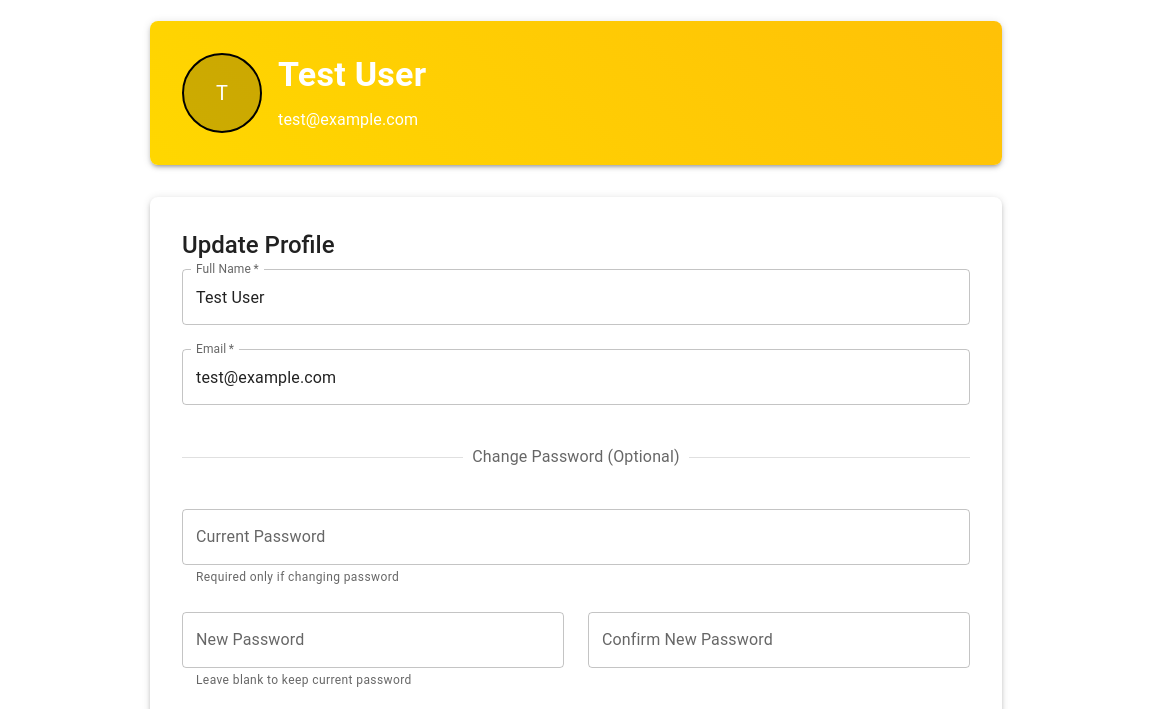
Test: Profile Component › Form Submission › should validate password length
Replace the text in the field labelled "Full Name *" with "Updated Name" at (576, 297), box [182,269,970,325]
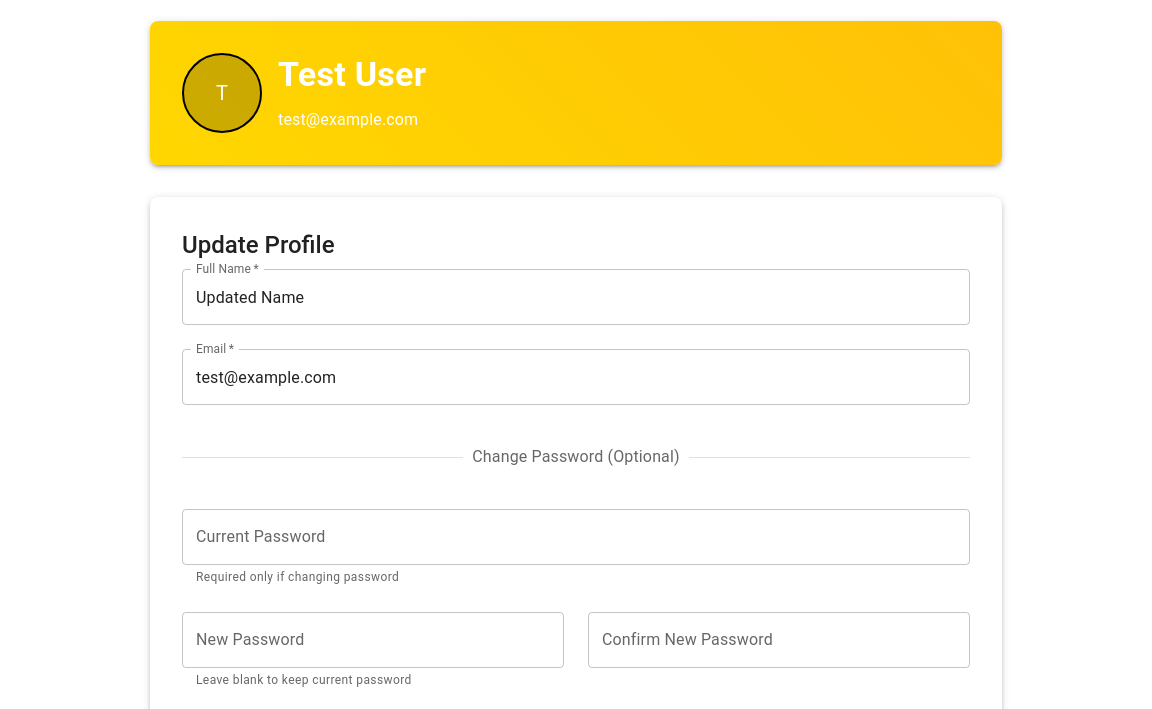
Replace the text in the field labelled "Email *" with "updated@example.com" at (576, 377), box [182,349,970,405]
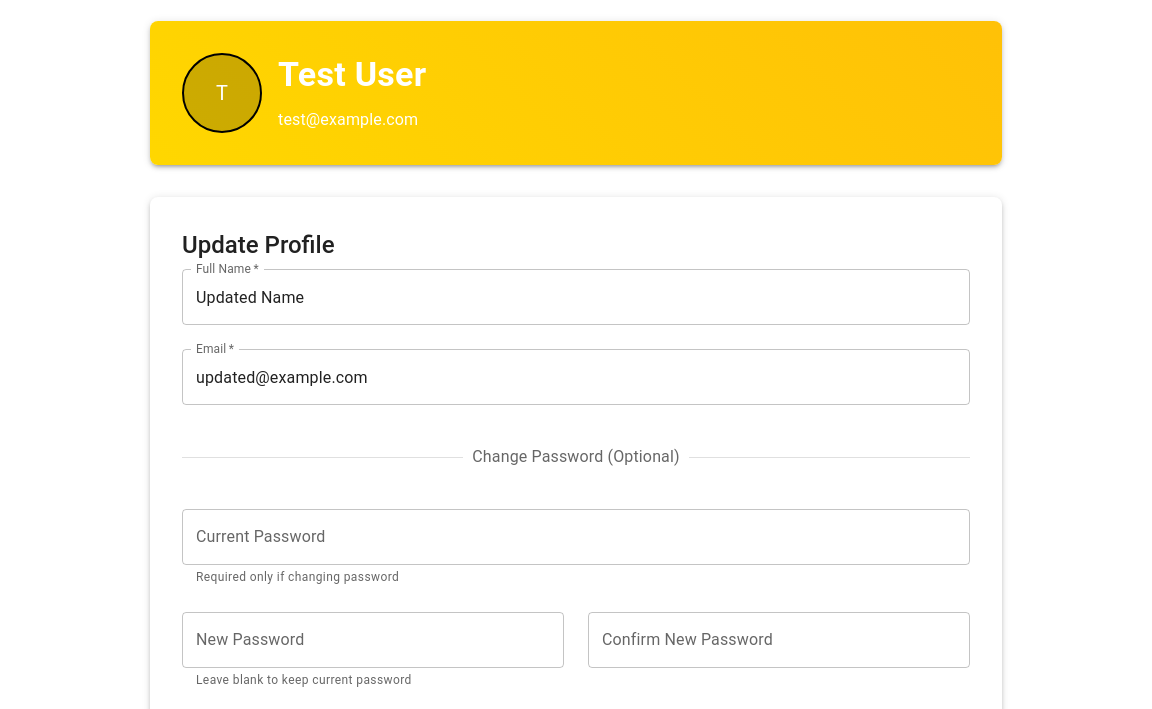
Type "currentpass" into the password field labelled "Current Password" at (576, 537), box [182,509,970,565]
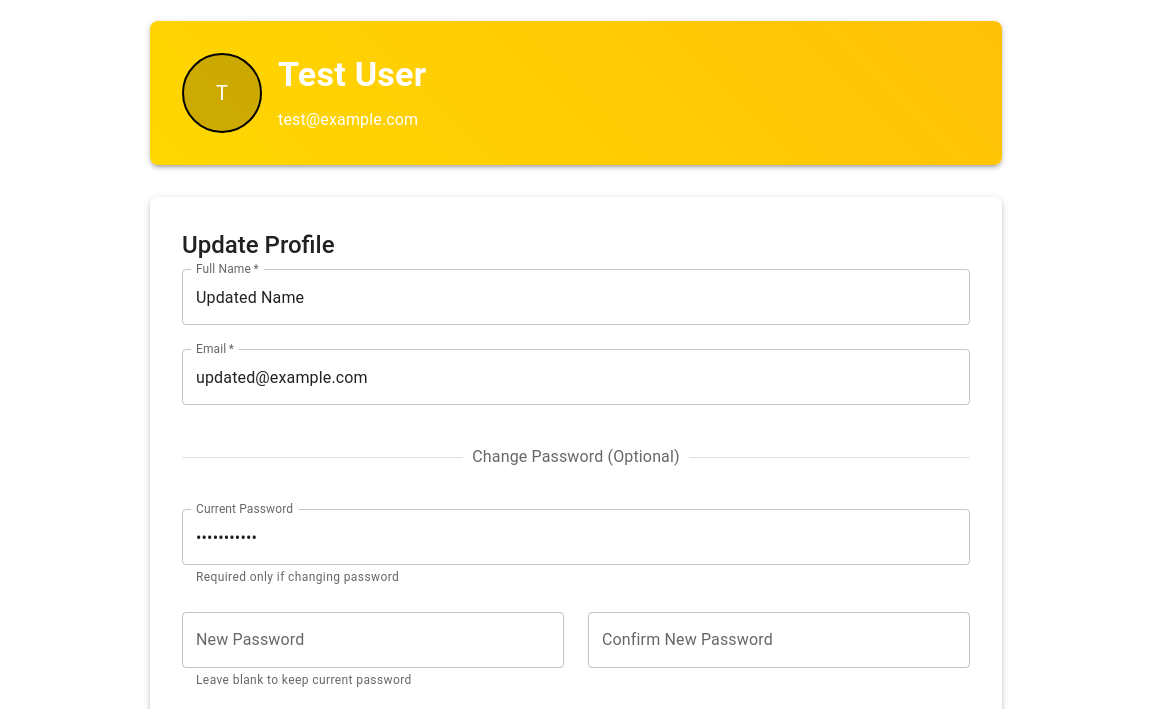
Type "12345" into the password field labelled "New Password" at (373, 640), box [182,612,564,668]
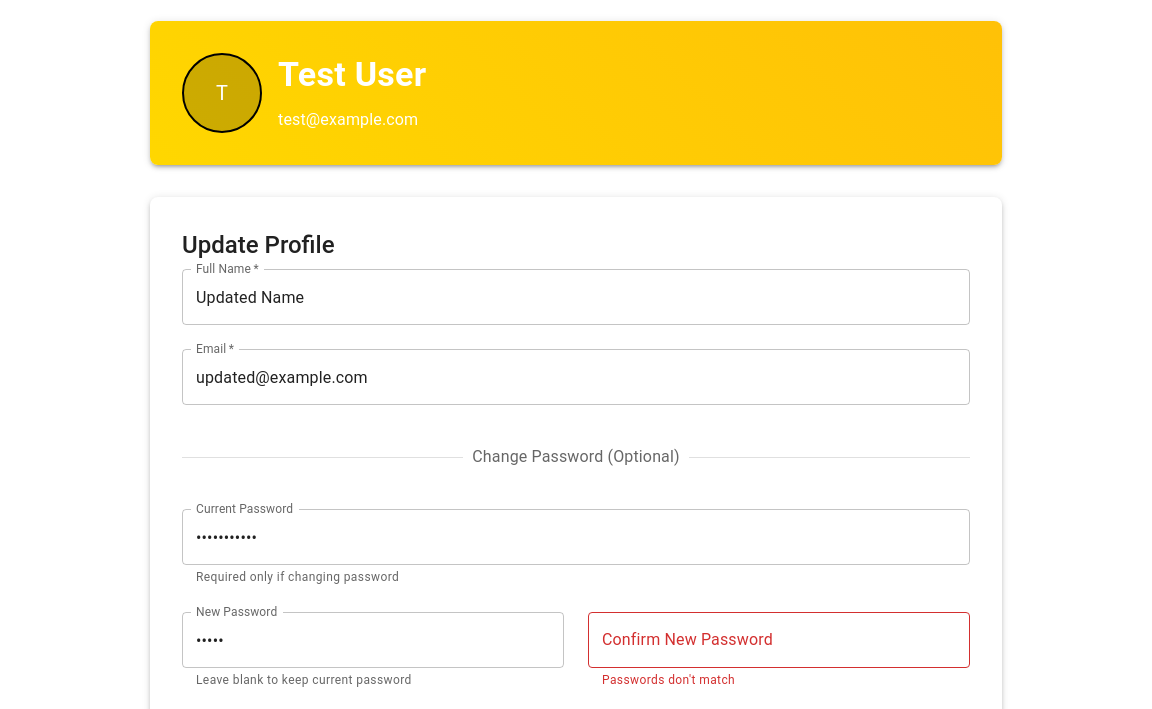
Type "12345" into the password field labelled "Confirm New Password" at (779, 640), box [588,612,970,668]
(page scrolled)
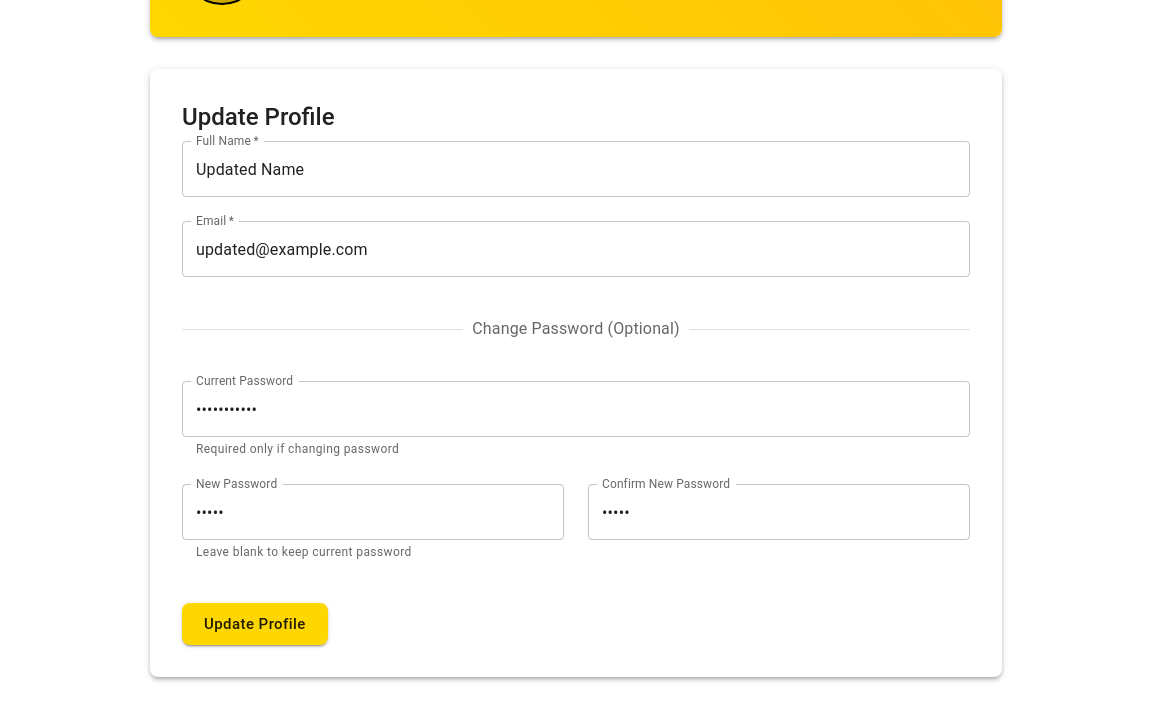
Click the button "Update Profile" at (255, 624), box [182,603,328,646]
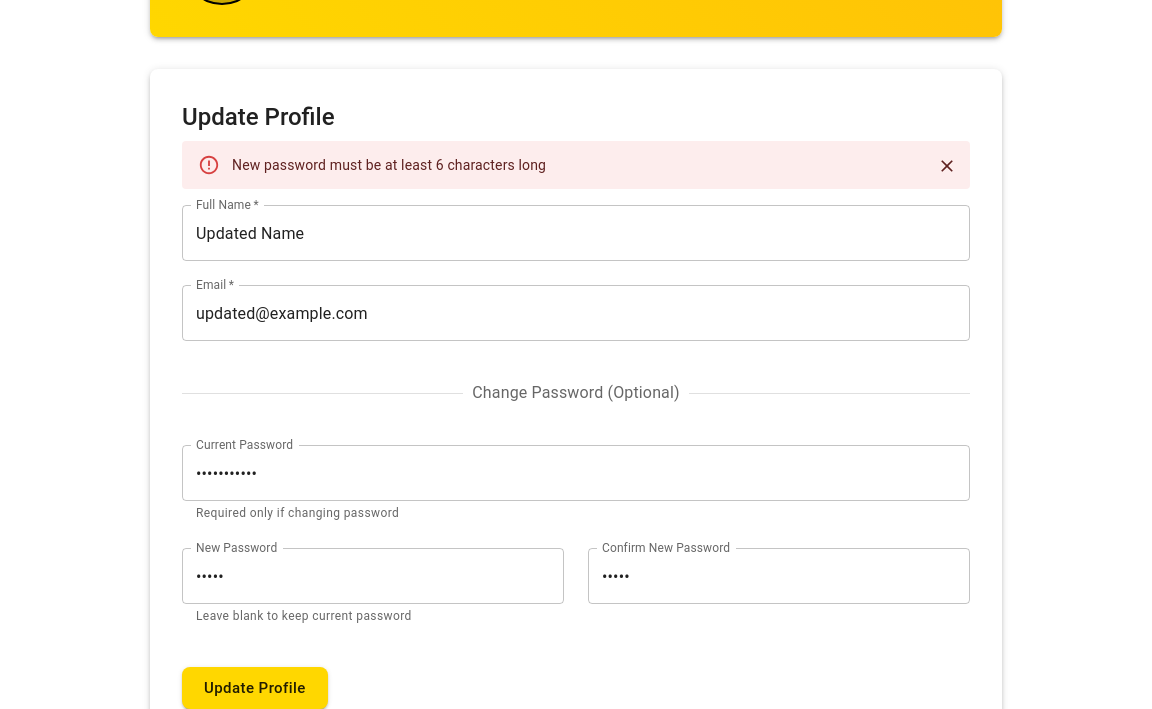
Expected: the text "New password must be at least 6 characters long" is shown, [232,157,546,173]
